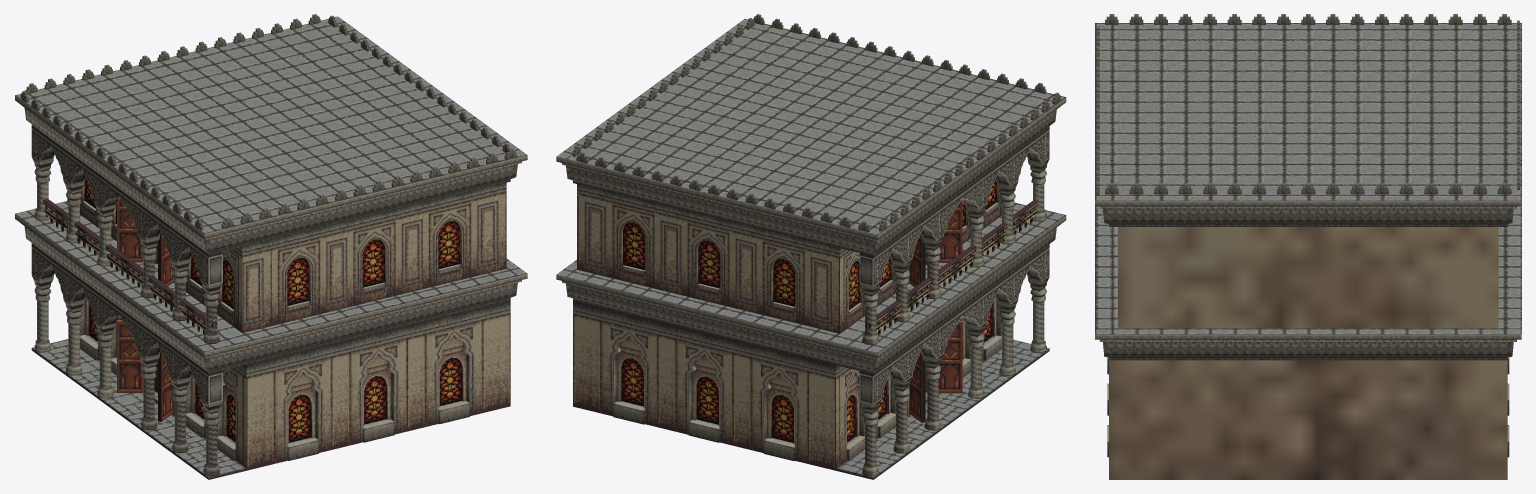
The model's file is ObjMD_Pub_Desert.FBX.
The picture shows the model from 3 angles, left to right: view 1: azimuth 30°, elevation 25°; view 2: azimuth 150°, elevation 25°; view 3: azimuth 270°, elevation 25°; orthographic projection. The views are drawn at different scales.
Visible parts, largest first — view 1: ObjMD_Pub_Desert; view 2: ObjMD_Pub_Desert; view 3: ObjMD_Pub_Desert.
Boxes of the visible parts, x1,y1,x2,y2 form: ObjMD_Pub_Desert: (15,14,527,479); ObjMD_Pub_Desert: (556,14,1066,479); ObjMD_Pub_Desert: (1095,14,1521,479).
Size of the model in its own units: 1714 by 1325 by 1739.
